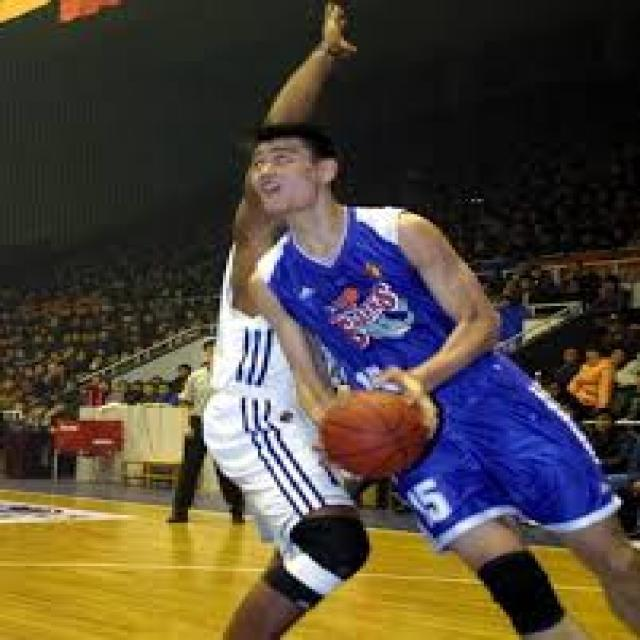rim: (325, 392, 433, 472)
